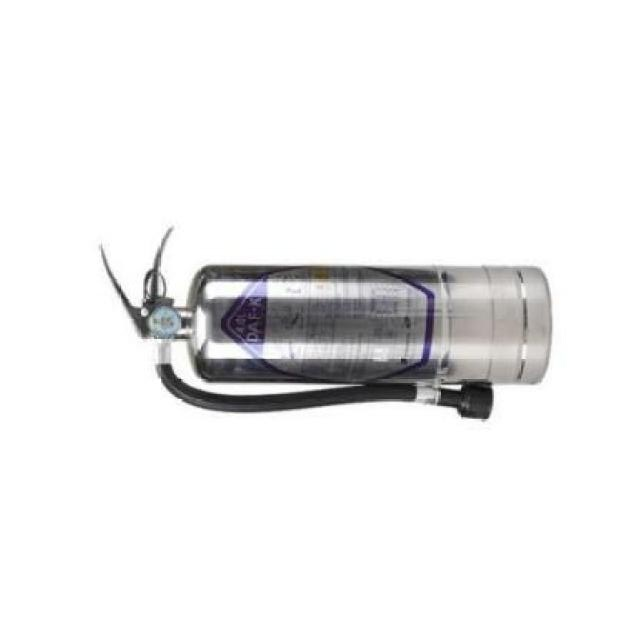fire extinguisher: (97, 227, 551, 422)
